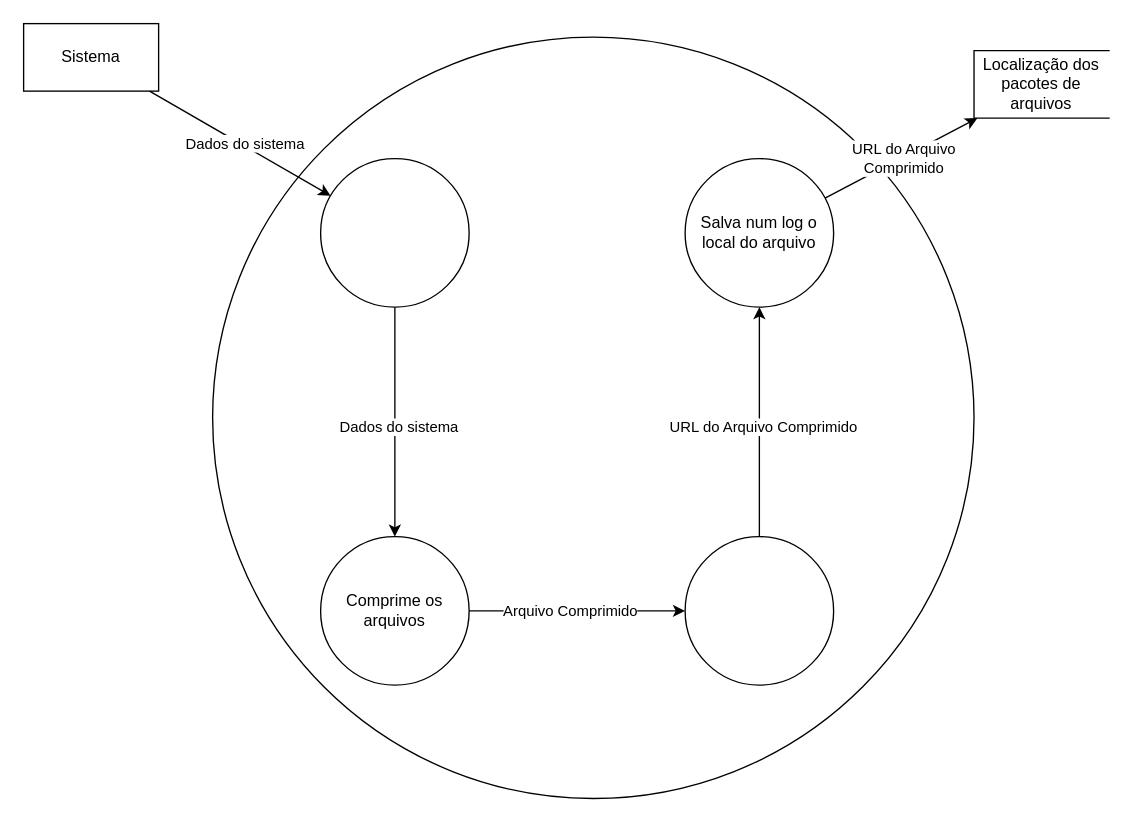
Some shapes in this 1133 by 822 pixel diagram are drawn without their labels. Each missing label, with the centre of its shape:
"Aloca os arquivos comprimidos" belongs at point (759, 610).
"Recebe os dados que irão ser salvos em backup" belongs at point (394, 232).
